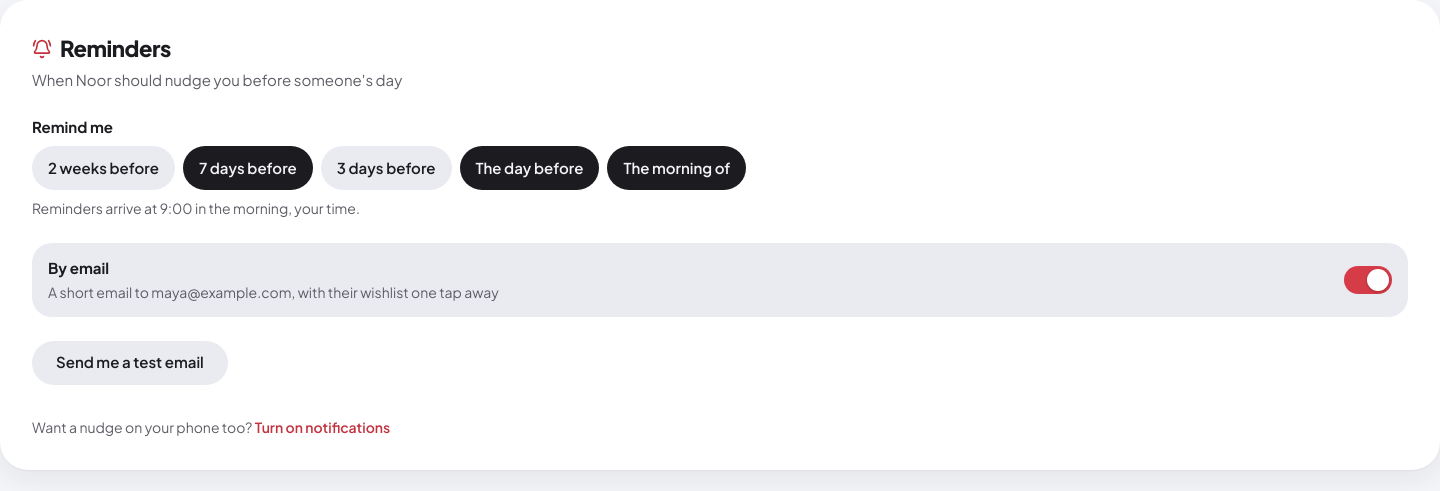
Settings → Reminders › a failed save puts things back and says what happened
What coordinates should you click on to do the following:
click the button "7 days before"
I would click on:
 (248, 168)
Its box is [183,146,313,190].
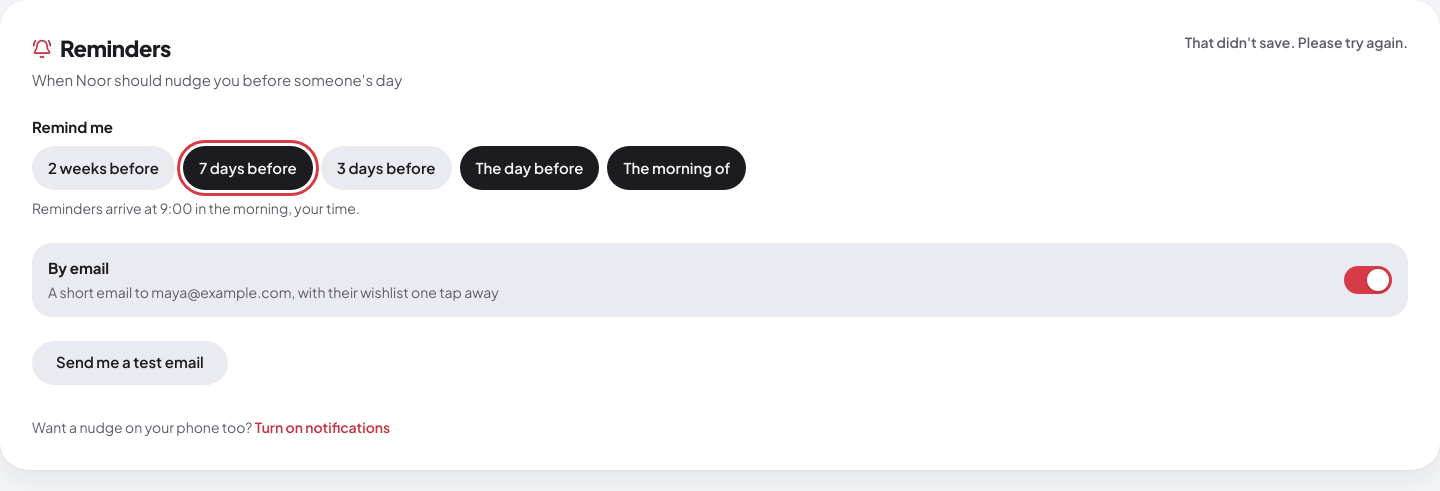
expect the text "That didn't save. Please try again." is shown: met, box [1185,32,1408,56]
